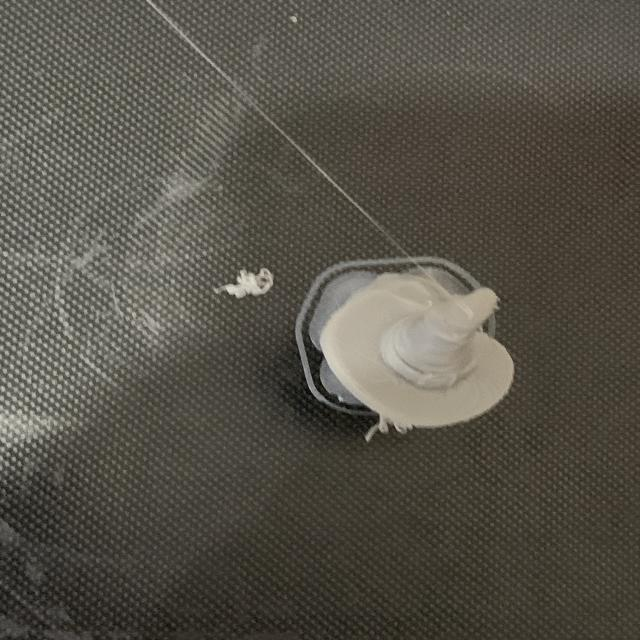spaghetti: (216, 262, 289, 307), (365, 411, 415, 446)
